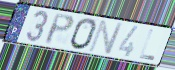3: (24, 9, 49, 44)
4: (117, 25, 140, 59)
L: (138, 28, 156, 62)
N: (87, 19, 125, 56)
O: (69, 17, 98, 51)
P: (43, 12, 75, 46)
